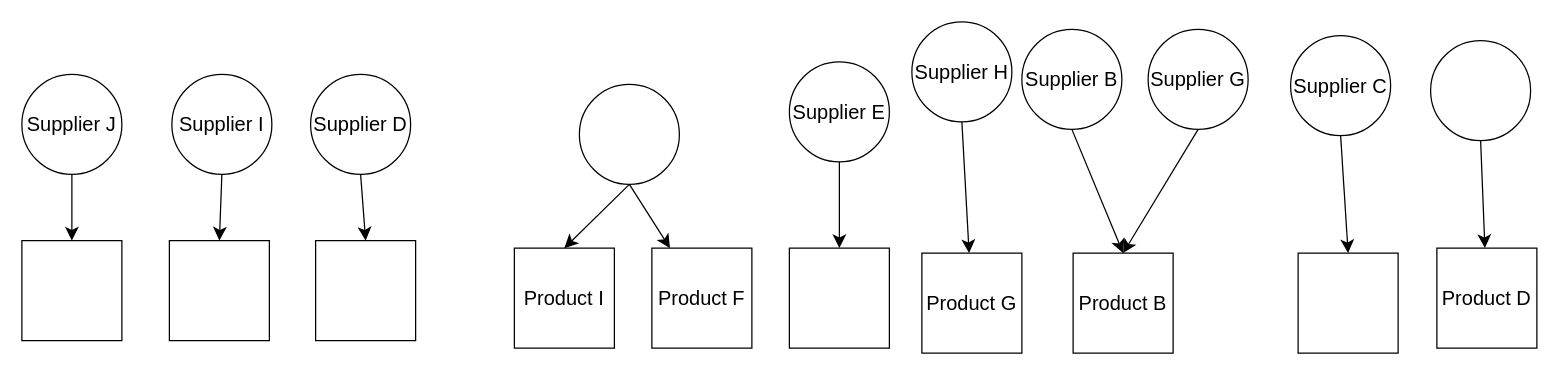
Some shapes in this 1559 by 375 pixel diagram are drawn without their labels. The shapes that lost their labels are listed below. From the top down, each one's centre as x and y in pixels, then its label:
(1480,90): Supplier F
(628,133): Supplier A
(71,290): Product J
(218,290): Product H
(365,290): Product C
(838,297): Product A
(1347,302): Product E
